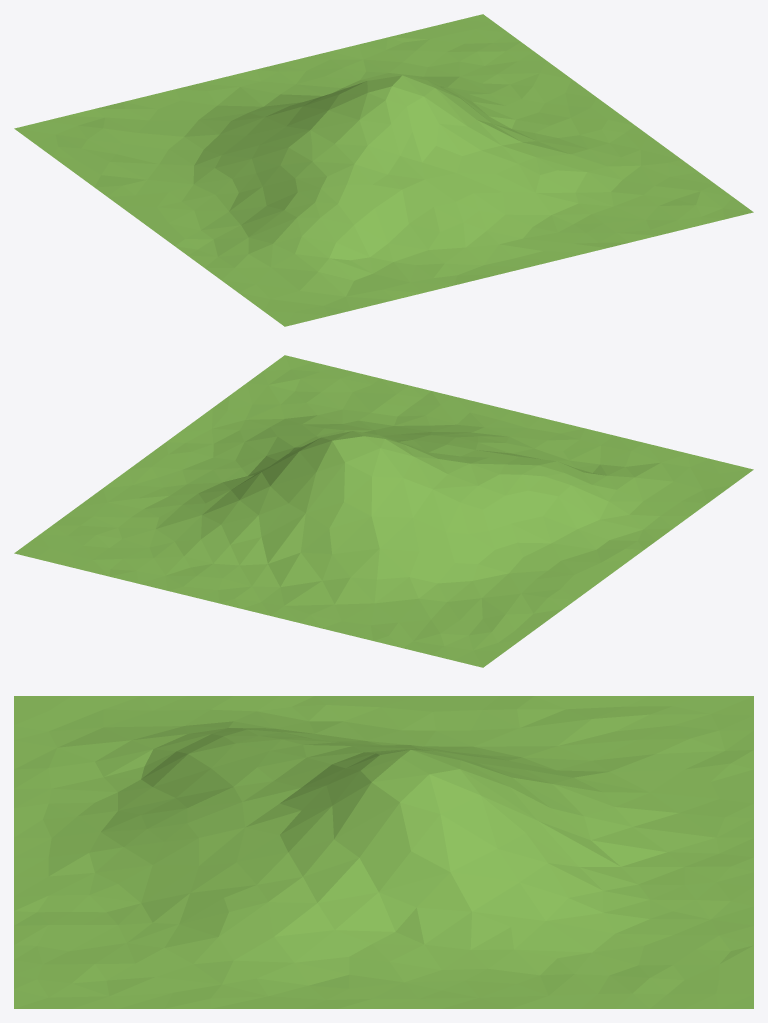
Rendered from MT_Terrain_M_a_14_LOD.fbx.
The picture shows the model from 3 angles, top to bottom: view 1: azimuth 30°, elevation 25°; view 2: azimuth 150°, elevation 25°; view 3: azimuth 270°, elevation 25°; orthographic projection. The views are drawn at different scales.
Parts seen in each view (by area): view 1: MT_Terrain_M_a_14_LOD0; view 2: MT_Terrain_M_a_14_LOD0; view 3: MT_Terrain_M_a_14_LOD0.
Boxes of the visible parts, x1,y1,x2,y2 form: MT_Terrain_M_a_14_LOD0: (14, 14, 753, 326); MT_Terrain_M_a_14_LOD0: (14, 355, 753, 667); MT_Terrain_M_a_14_LOD0: (14, 696, 753, 1008).
Size of what is drawn, in the model's own units: 5000 by 785 by 5000.
